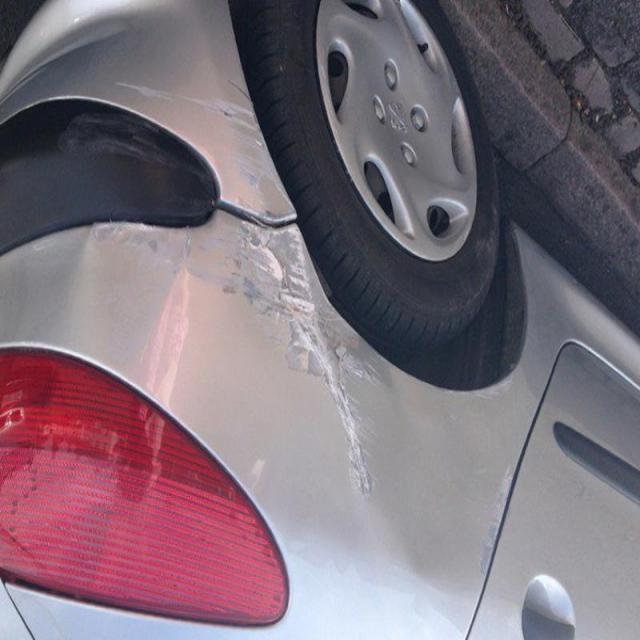scratch: (203, 171, 394, 545)
